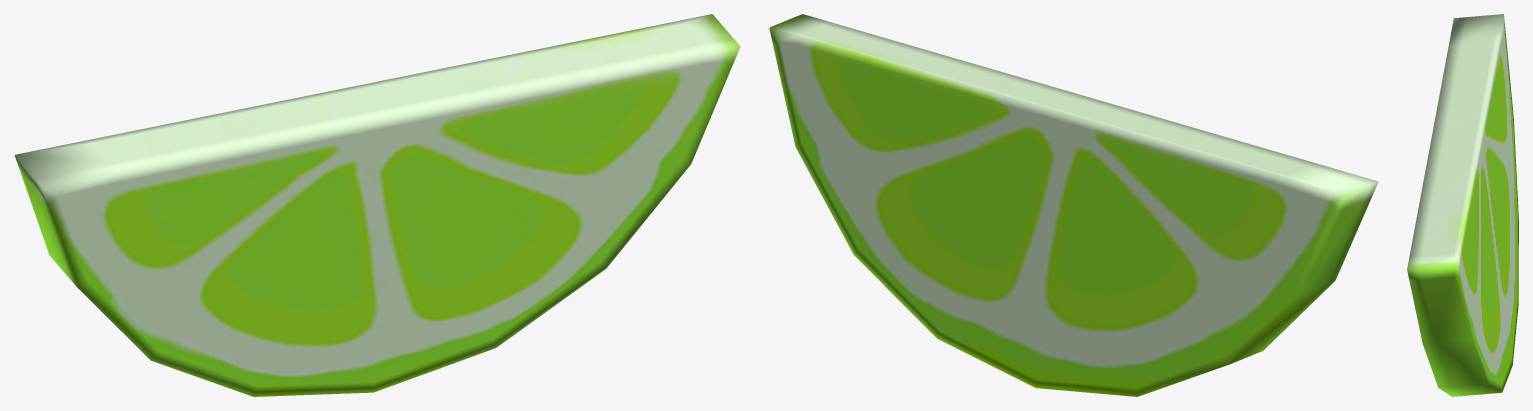
Rendered from green_lime_slice.glb.
The picture shows the model from 3 angles, left to right: view 1: azimuth 30°, elevation 25°; view 2: azimuth 150°, elevation 25°; view 3: azimuth 270°, elevation 25°; orthographic projection. The views are drawn at different scales.
Visible parts, largest first — view 1: green_lime_slice; view 2: green_lime_slice; view 3: green_lime_slice.
Boxes of the visible parts, box(x1,y1,x2,y2) form: green_lime_slice: box(14, 14, 740, 396); green_lime_slice: box(769, 14, 1378, 396); green_lime_slice: box(1407, 14, 1518, 396).
Bounding box in the file's own units: 0.5479 × 0.2332 × 0.1024.
1 material, 1 textured.
